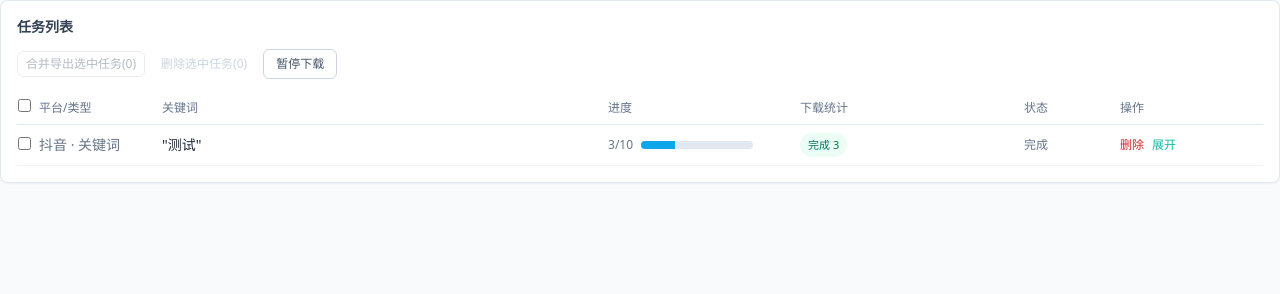
Test: 任务列表导出表格 › 任务一条视频都没有 → 按钮禁用，不产出只有表头的空表
Step 1. Click the button "展开" → click(1164, 145), box [1152, 137, 1176, 153]
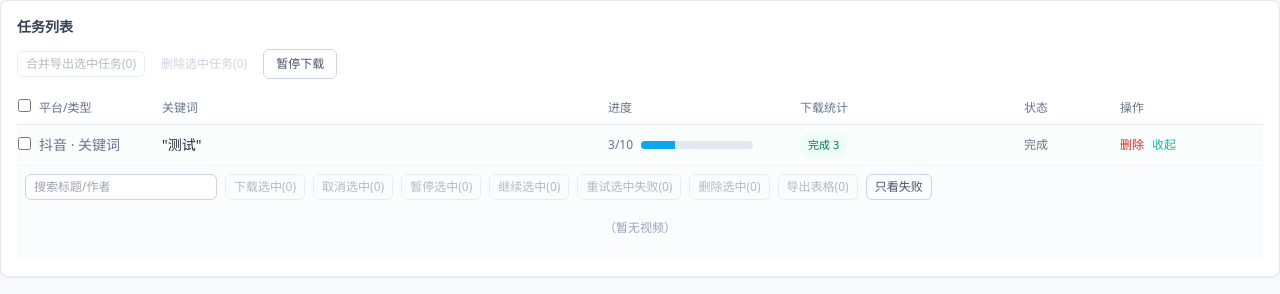
Expected: the button "导出表格(0)" is disabled, [778, 174, 858, 200]
